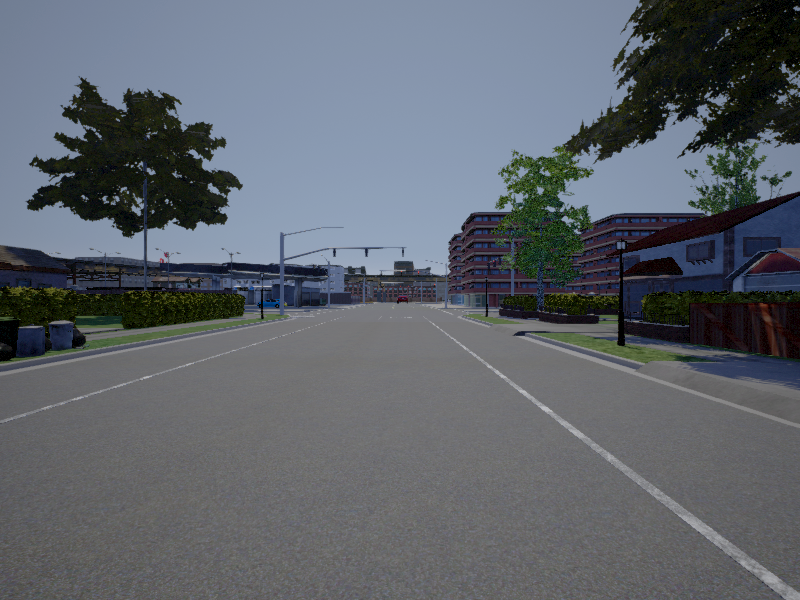Attacker: (396, 295, 410, 304)
